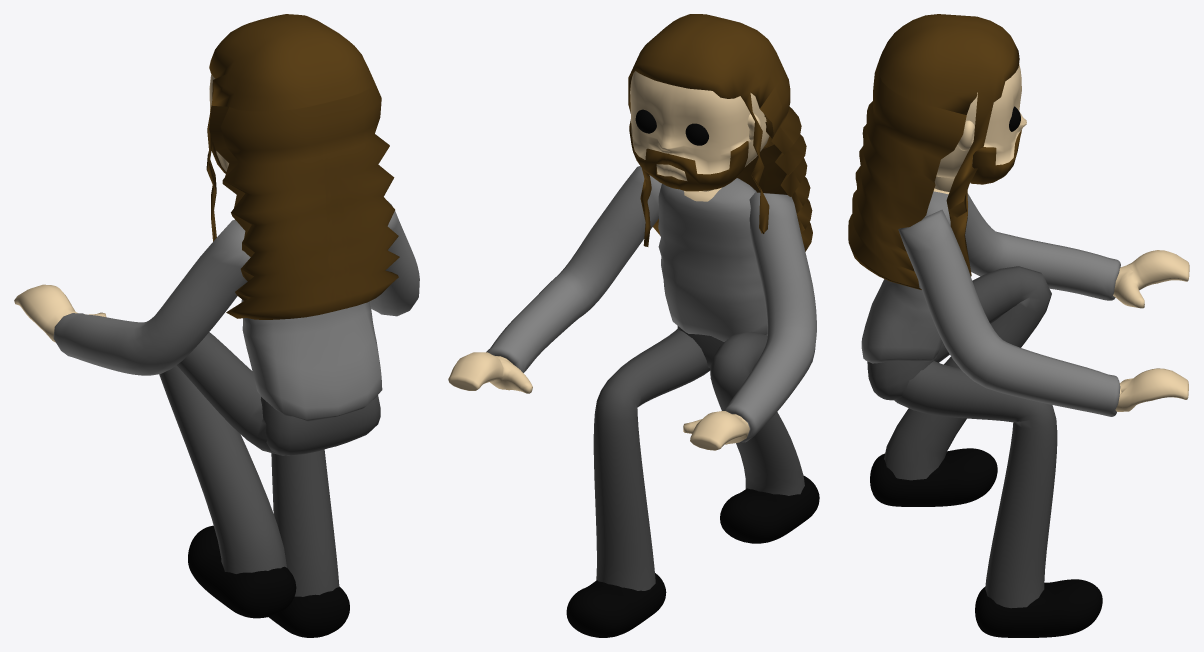
File: budd.fbx
3 renders of one model, left to right at view 1: azimuth 30°, elevation 25°; view 2: azimuth 150°, elevation 25°; view 3: azimuth 270°, elevation 25°, orthographic. The views are drawn at different scales.
Parts seen in each view (by area): view 1: Sphere.010, BézierCurve.039, NurbsPath.004, Cube.003, BézierCurve.038, BézierCurve.036, Cube.039, BézierCurve.037, NurbsPath.011; view 2: Sphere.010, BézierCurve.038, Cube.003, NurbsPath.004, NurbsPath.011, Sphere.002, BézierCurve.039, BézierCurve.036, BézierCurve.037, Cube.039; view 3: Sphere.010, NurbsPath.011, BézierCurve.038, NurbsPath.004, BézierCurve.039, Cube.003, BézierCurve.037, BézierCurve.036, Sphere.002, Cube.039.
Boxes of the visible parts, box(x1,y1,x2,y2) form: Sphere.010: box(206, 14, 399, 319); BézierCurve.039: box(159, 332, 286, 573); NurbsPath.004: box(14, 219, 250, 375); Cube.003: box(241, 299, 382, 421); BézierCurve.038: box(271, 449, 339, 596); BézierCurve.036: box(188, 525, 296, 618); Cube.039: box(260, 395, 380, 455); BézierCurve.037: box(268, 586, 349, 637); NurbsPath.011: box(369, 201, 419, 316); Sphere.010: box(628, 14, 812, 251); BézierCurve.038: box(593, 328, 710, 590); Cube.003: box(658, 178, 767, 341); NurbsPath.004: box(683, 192, 816, 450); NurbsPath.011: box(448, 166, 661, 393); Sphere.002: box(629, 71, 769, 191); BézierCurve.039: box(710, 331, 804, 495); BézierCurve.036: box(720, 476, 819, 543); BézierCurve.037: box(566, 573, 666, 637); Cube.039: box(677, 326, 767, 367); Sphere.010: box(848, 14, 1019, 289); NurbsPath.011: box(898, 209, 1188, 416); BézierCurve.038: box(894, 361, 1057, 608); NurbsPath.004: box(965, 193, 1189, 308); BézierCurve.039: box(884, 266, 1051, 480); Cube.003: box(861, 188, 968, 363); BézierCurve.037: box(975, 579, 1102, 637); BézierCurve.036: box(870, 448, 997, 506); Sphere.002: box(936, 63, 1026, 184); Cube.039: box(867, 359, 934, 400).
Size of the model in its own units: 392 by 775 by 408.
